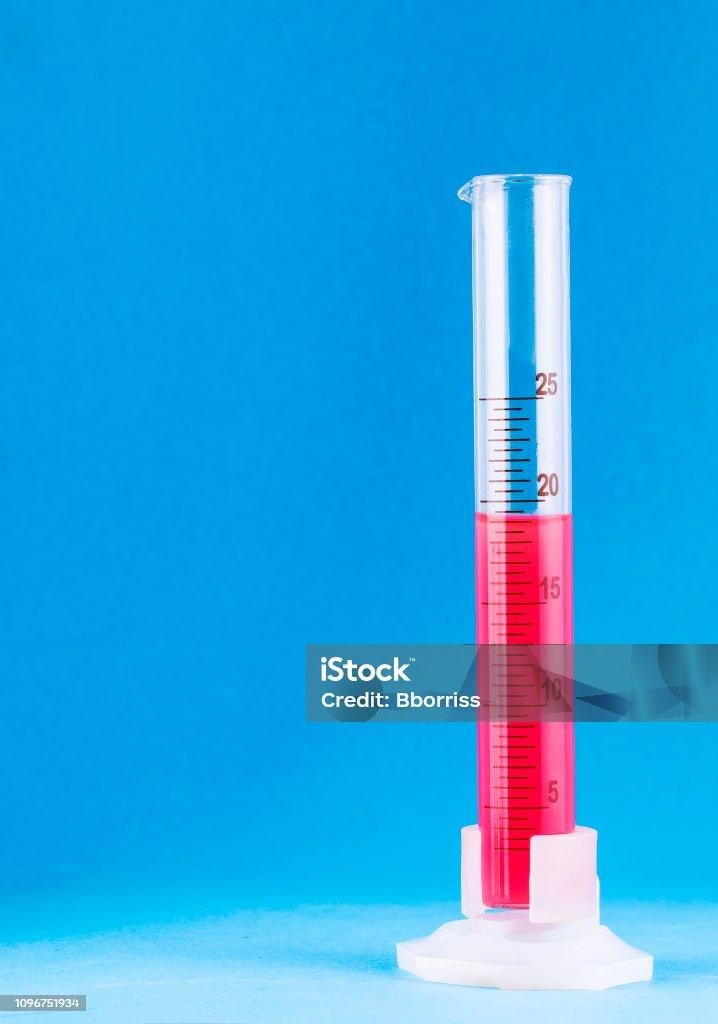Test tube: (444, 152, 603, 902)
